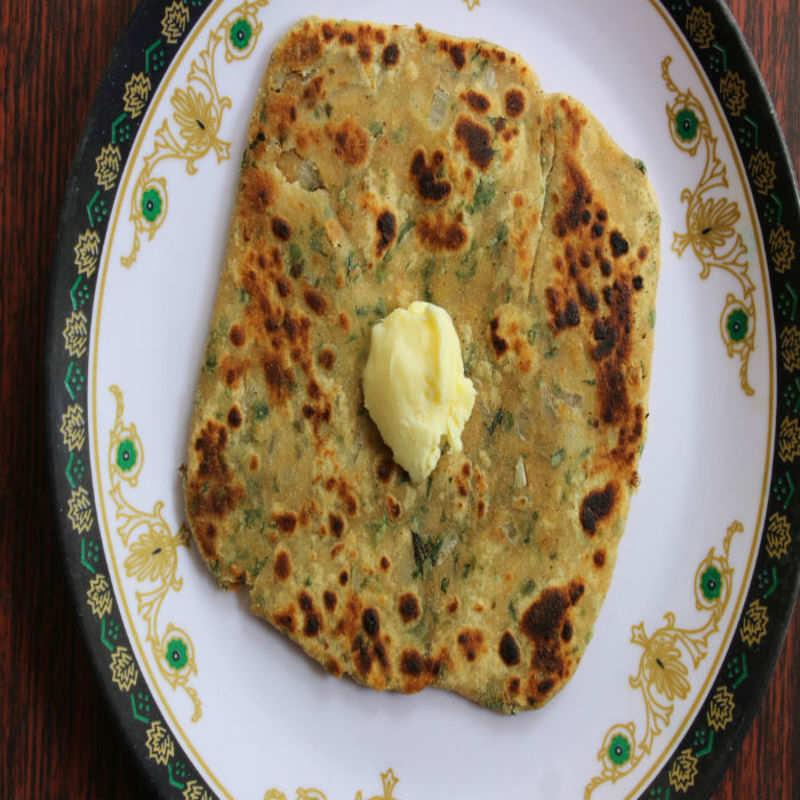chapati: (186, 19, 659, 712)
